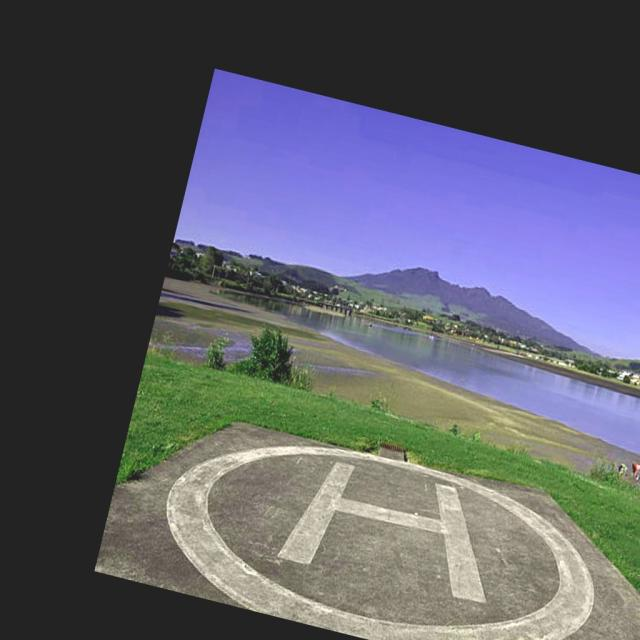helipad: (161, 442, 598, 639)
